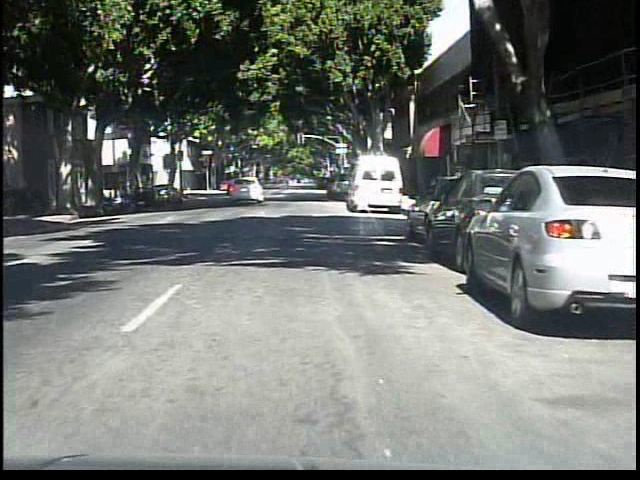person: (274, 167, 294, 199)
